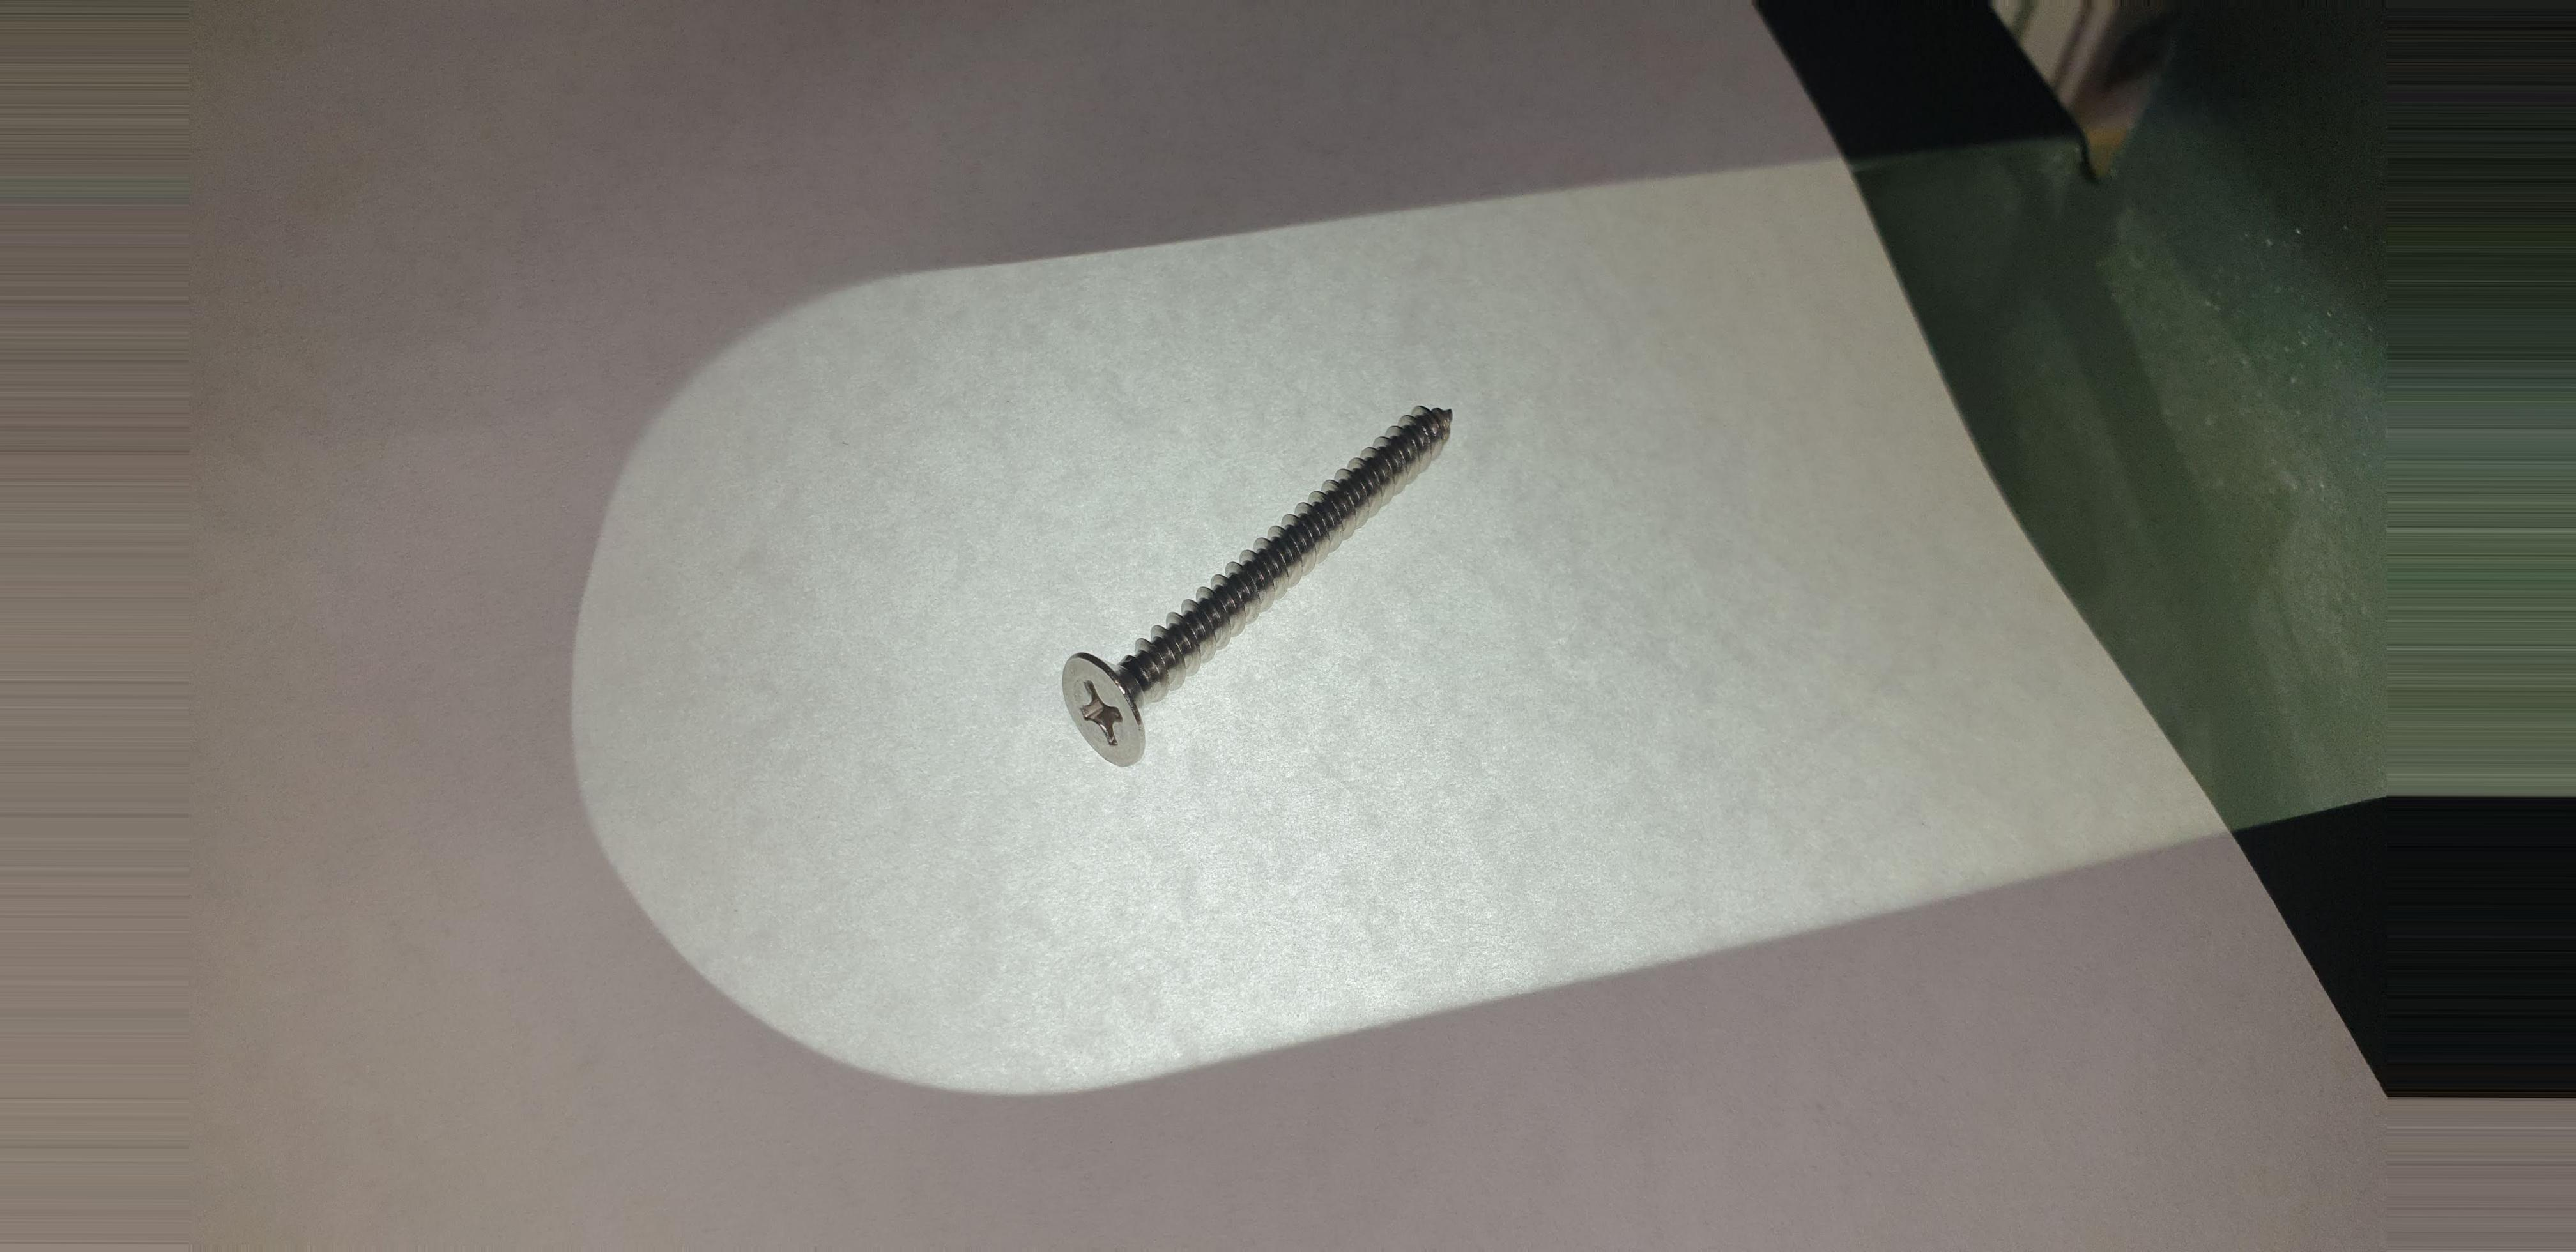fastener: (884, 365, 1571, 813)
